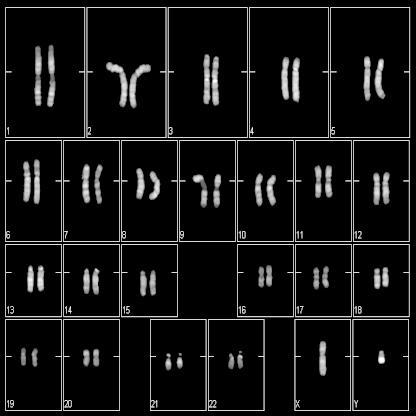1: (43, 43, 56, 112), (32, 43, 43, 112)
10: (252, 170, 264, 210), (266, 170, 277, 210)
11: (312, 162, 324, 201), (324, 162, 336, 201)
12: (380, 168, 391, 208), (370, 168, 381, 207)
13: (24, 262, 35, 295), (36, 261, 46, 294)
14: (80, 265, 92, 297), (92, 265, 104, 297)
15: (148, 266, 158, 298), (138, 266, 147, 300)
16: (264, 262, 276, 288), (254, 263, 265, 289)
17: (310, 265, 322, 292), (321, 265, 333, 292)
18: (373, 263, 382, 294), (382, 263, 390, 294)
19: (31, 346, 45, 368), (18, 344, 31, 367)
2: (103, 58, 128, 111), (128, 58, 152, 112)
20: (80, 345, 92, 372), (91, 346, 102, 373)
21: (161, 348, 175, 375), (173, 348, 187, 375)
22: (236, 345, 248, 372), (226, 345, 237, 372)
3: (202, 50, 212, 107), (210, 51, 220, 108)
4: (281, 53, 289, 104), (291, 53, 299, 104)
5: (360, 51, 374, 108), (373, 50, 386, 107)
6: (20, 156, 32, 204), (30, 156, 42, 204)
7: (92, 160, 107, 206), (79, 159, 93, 206)
8: (134, 163, 146, 200), (148, 163, 160, 200)
9: (210, 172, 231, 208), (190, 173, 210, 208)
X: (316, 338, 328, 378)
Y: (376, 343, 387, 370)
